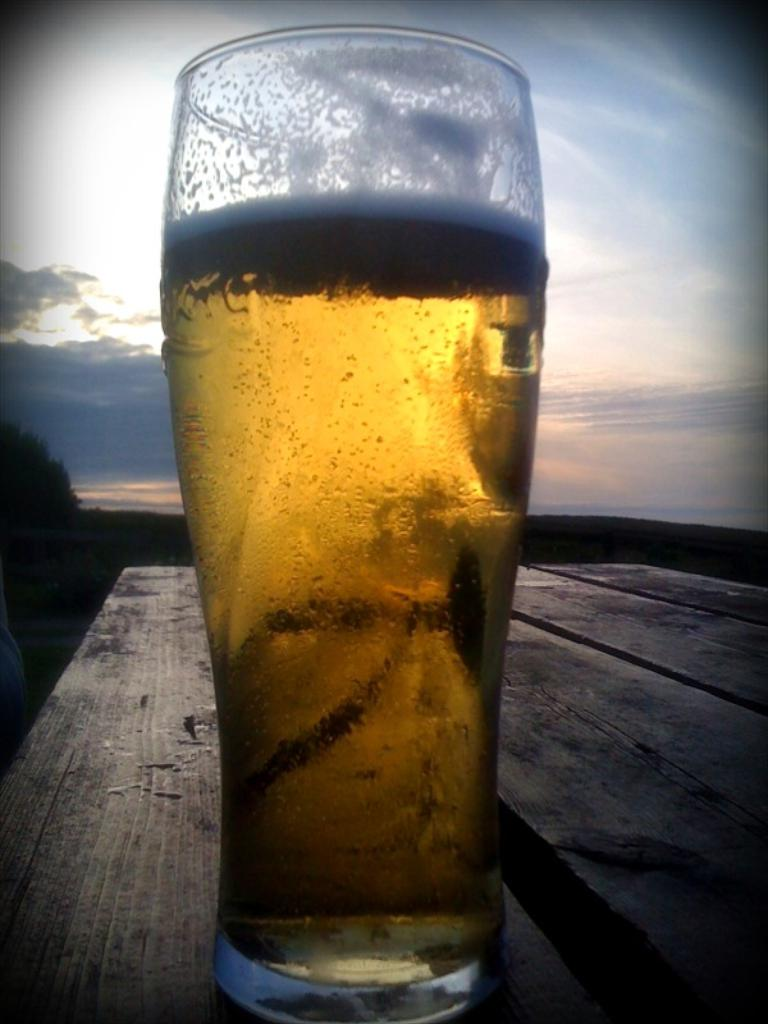Beer: (156, 33, 543, 1022)
